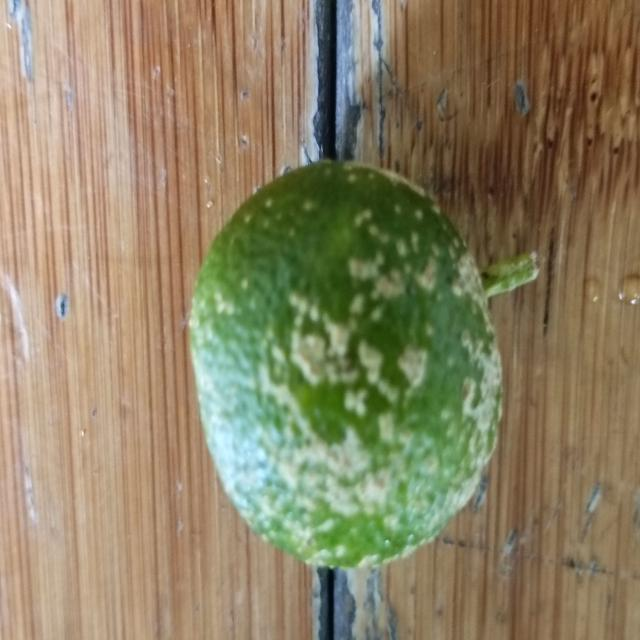scab: (184, 159, 509, 577)
